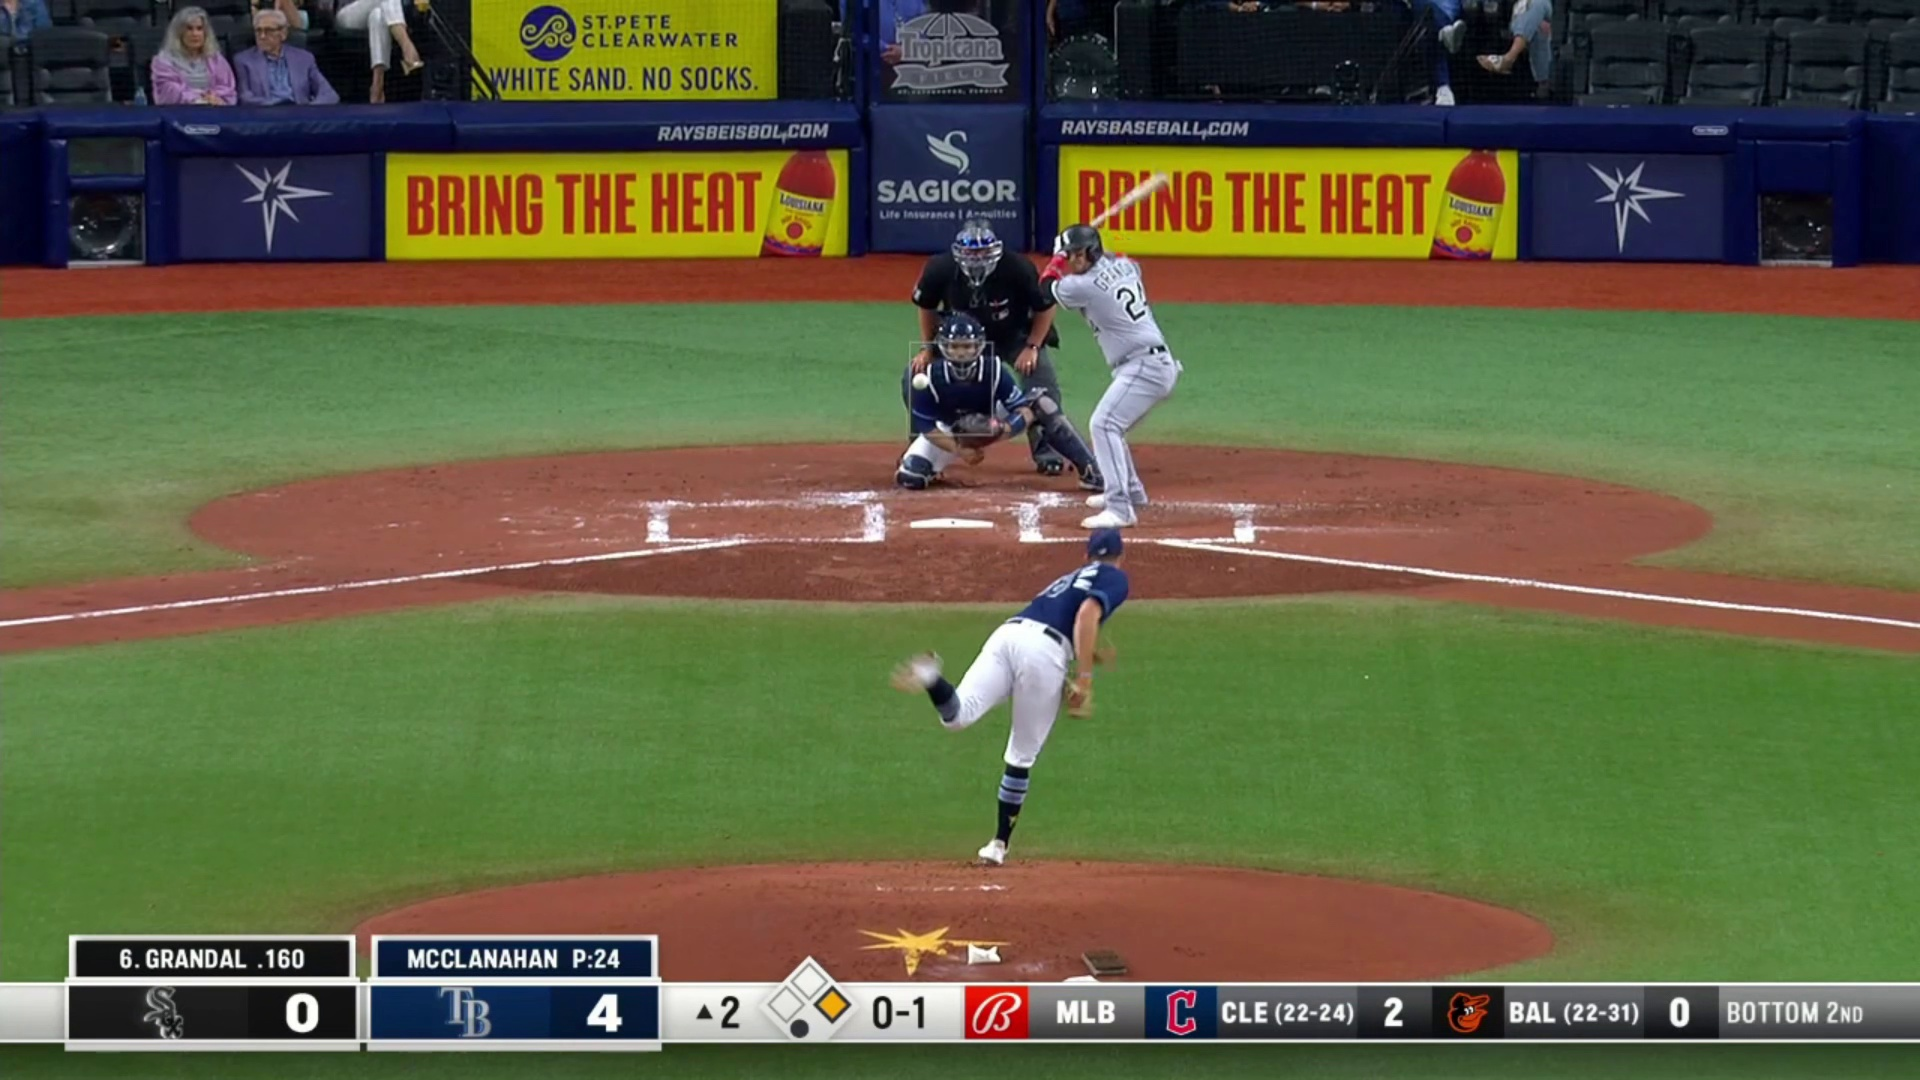baseball: (913, 372, 928, 389)
